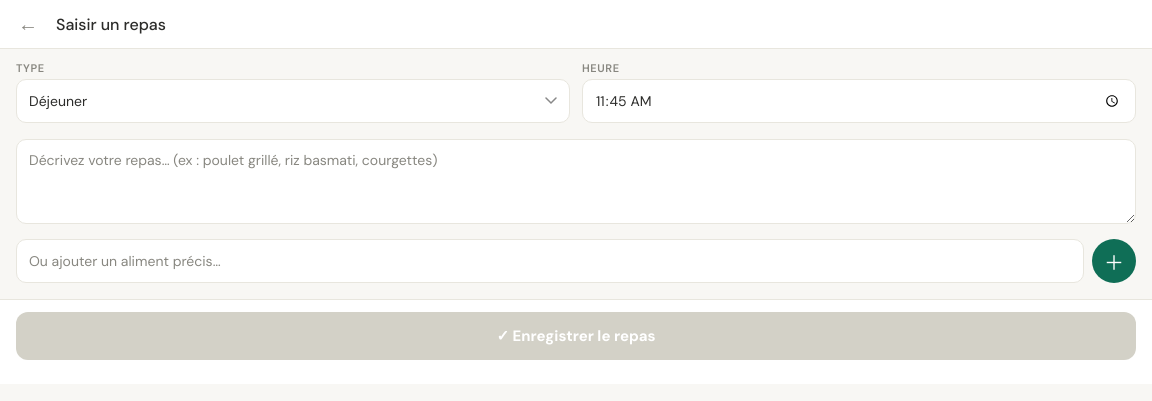
Scenario: MealEntryComponent › mode texte — saisie et analyse › affiche le bouton "Analyse IA" dès que la textarea n'est pas vide (clé présente)
Replace the text in the text box with test id "meal-text-input" with "Poulet riz": (576, 182) top-left (16, 139), bottom-right (1136, 224)
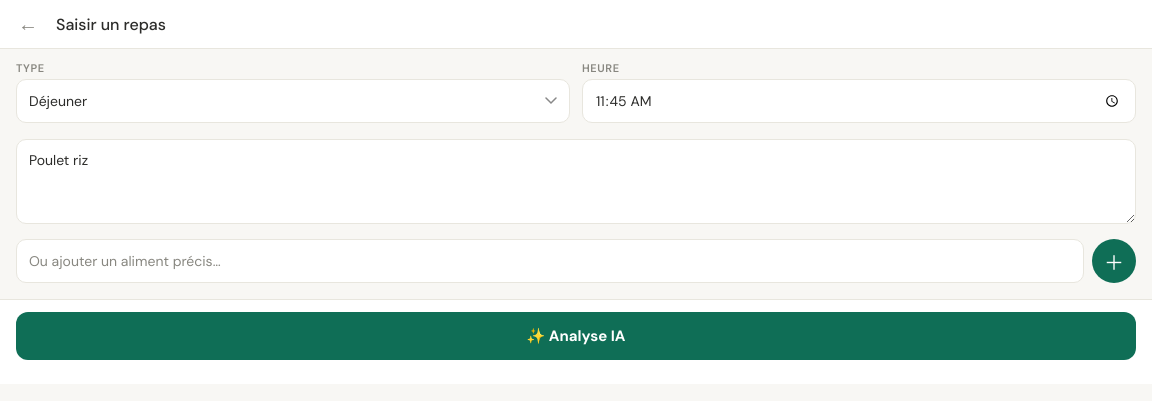
Now the button with test id "analyze-meal" is shown, box top-left (16, 312), bottom-right (1136, 360)
